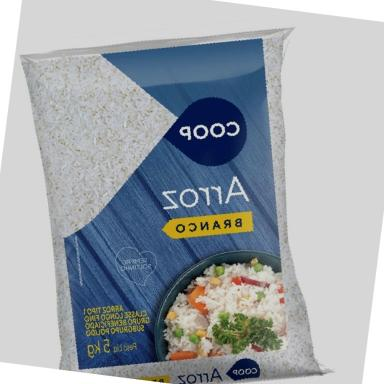rice package: (22, 30, 321, 383)
